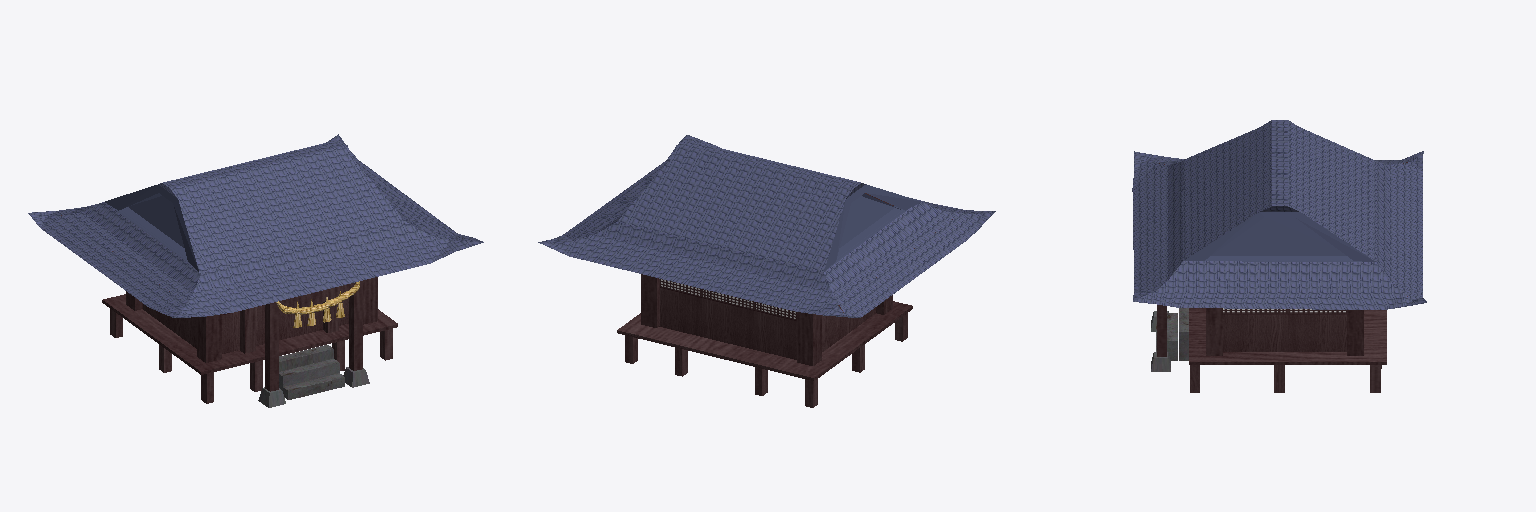
3 renders of one model, left to right at view 1: azimuth 30°, elevation 25°; view 2: azimuth 150°, elevation 25°; view 3: azimuth 270°, elevation 25°, orthographic.
Parts seen in each view (by area): view 1: default; view 2: default; view 3: default.
Boxes of the visible parts, x1=… form: default: x1=28, y1=134, x2=483, y2=407; default: x1=538, y1=135, x2=995, y2=407; default: x1=1132, y1=120, x2=1426, y2=392.
Bounding box in the file's own units: 1099 × 620 × 898.
1 materials, 1 textured.